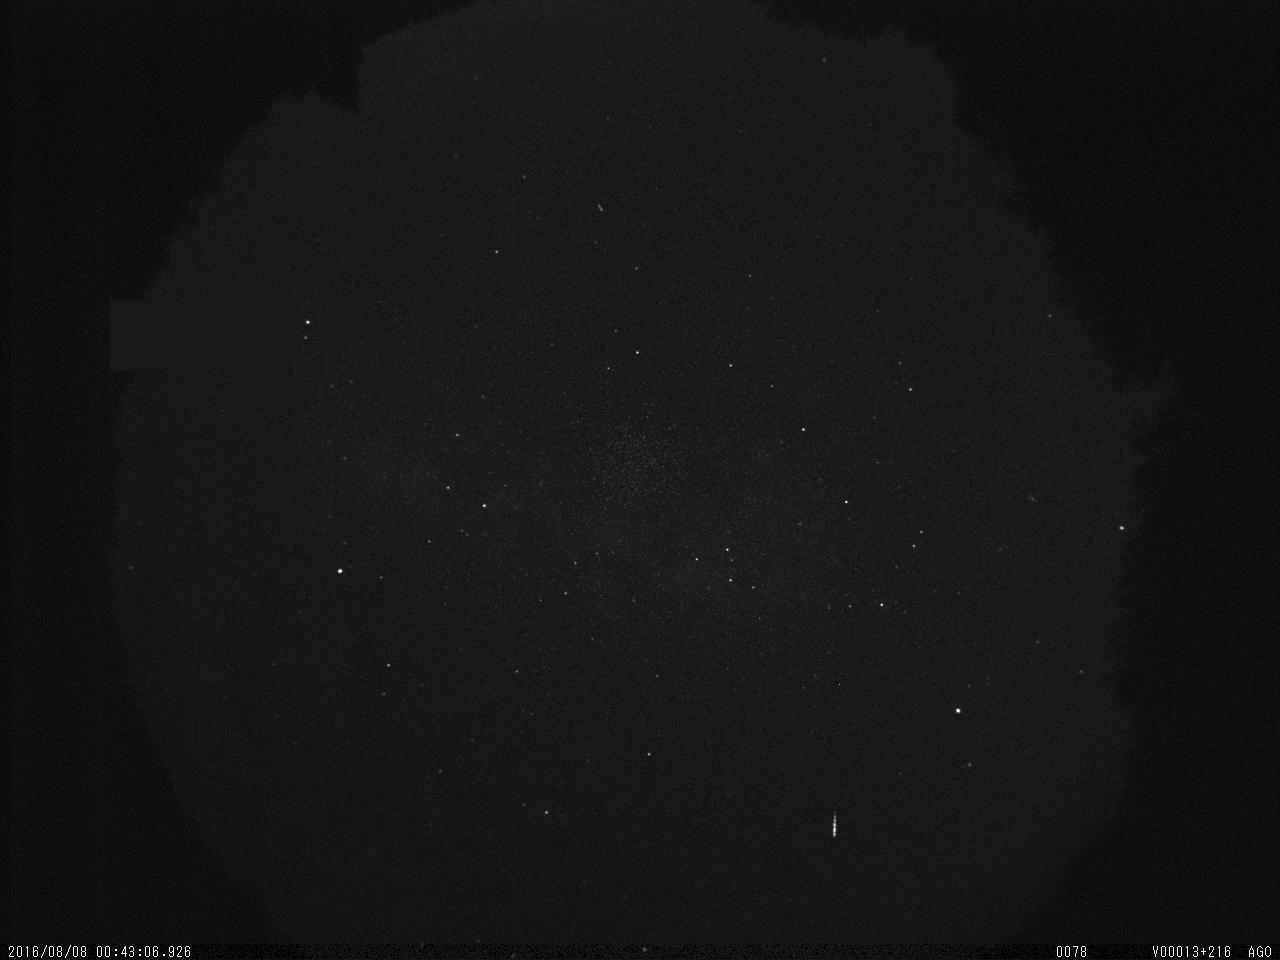meteor: (822, 799, 846, 848)
